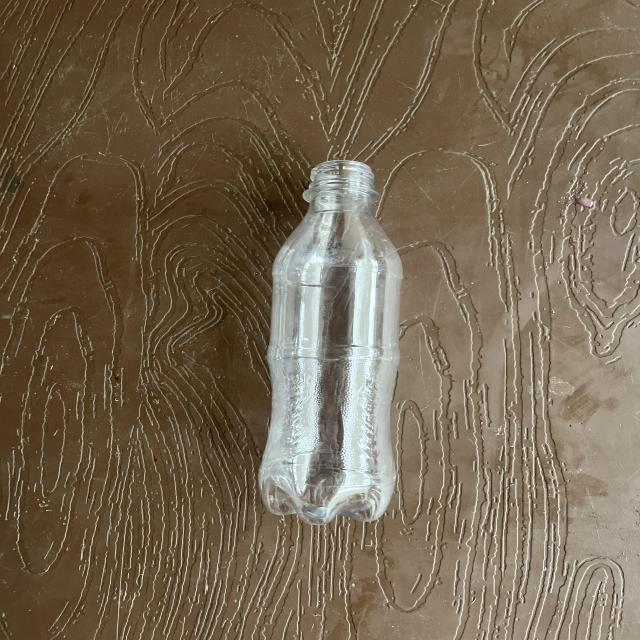PET_ClearBottle: (252, 166, 404, 512)
